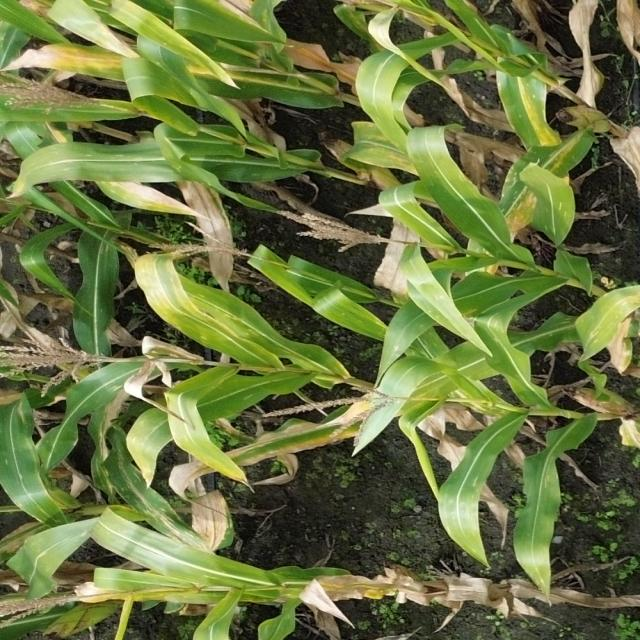gray-leaf-spot: (102, 448, 211, 548), (139, 262, 205, 322), (354, 121, 416, 169)
northern-leaf-blight: (95, 176, 197, 212), (38, 42, 138, 77), (512, 88, 562, 146), (497, 178, 540, 239), (254, 424, 332, 454), (606, 317, 634, 374)
